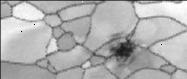good_void: (108, 38, 135, 66)
